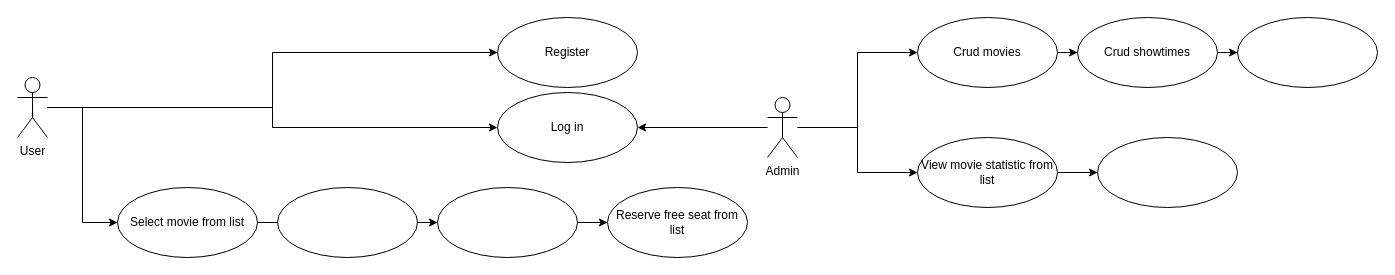
Image size: 1395x275. Some labels were removed from this diagram. Each missing label, with the box of its shape:
Add/Remove auditorium to movie: (1236, 16, 1378, 88)
Select Auditorium from list: (436, 186, 578, 258)
Select showtime from list: (276, 186, 418, 258)
View auditorium statistic from list: (1096, 136, 1238, 208)
